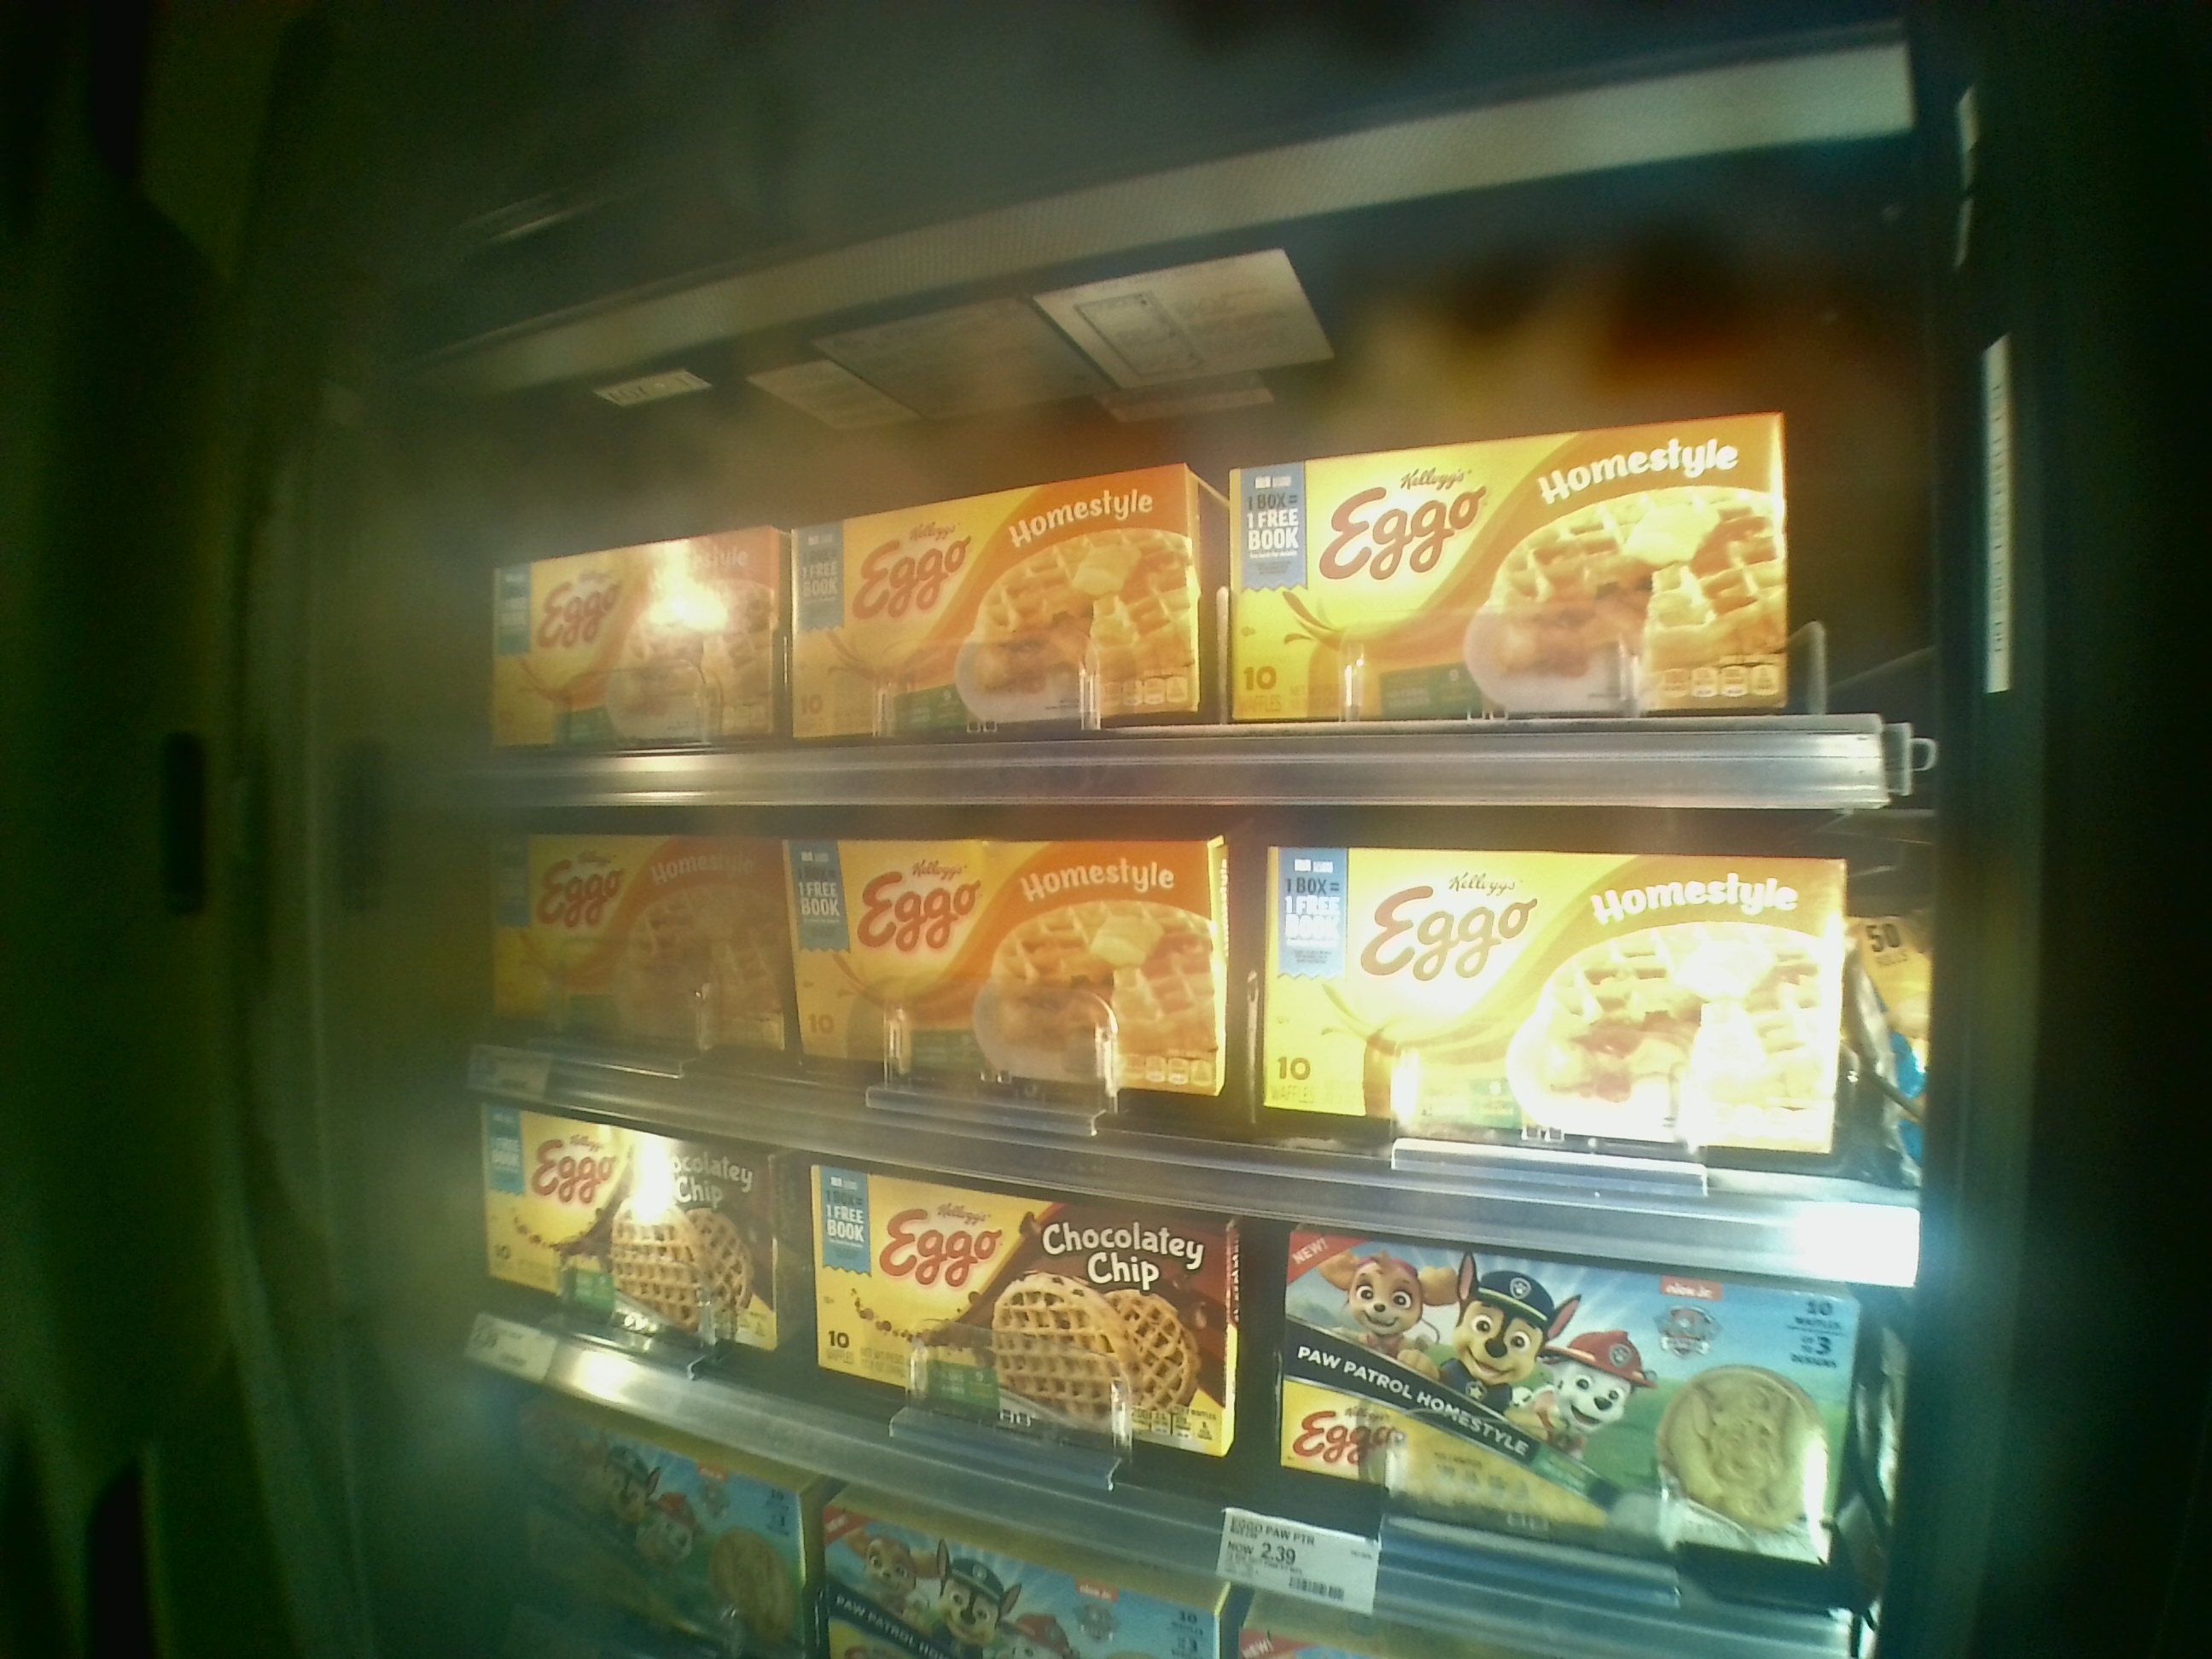shelf: (451, 296, 1902, 807)
